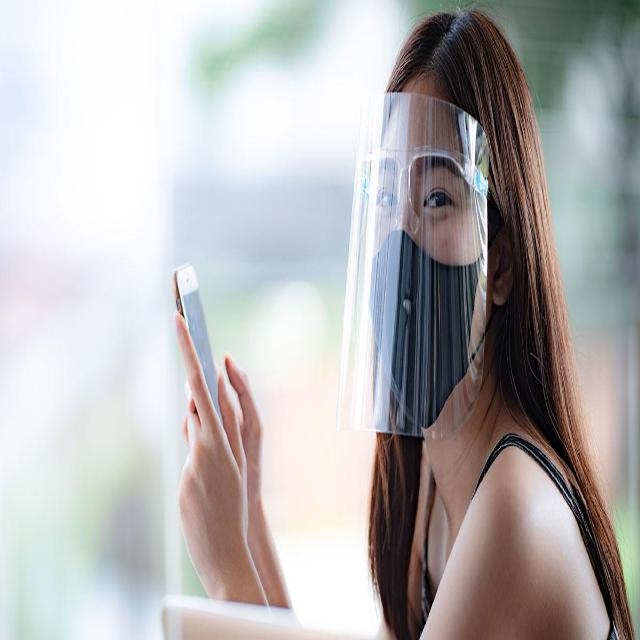Goggles: (356, 149, 490, 239)
Mask: (368, 231, 473, 431)
